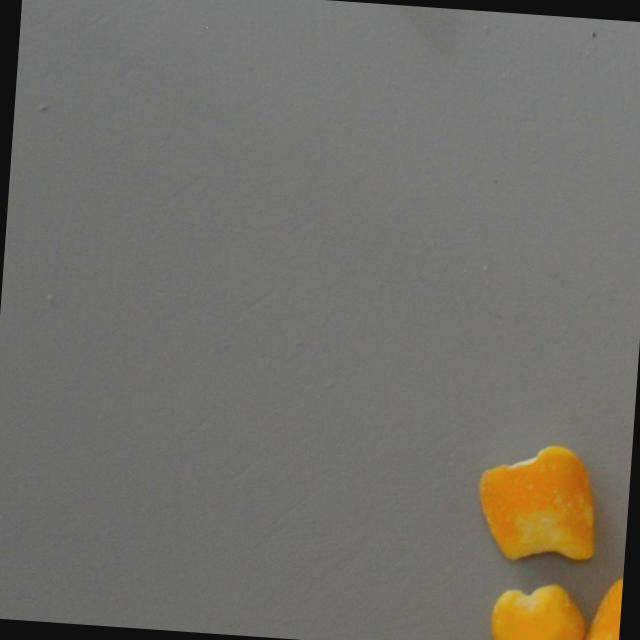pelicula: (470, 435, 606, 570), (489, 576, 590, 640), (577, 569, 623, 640)
